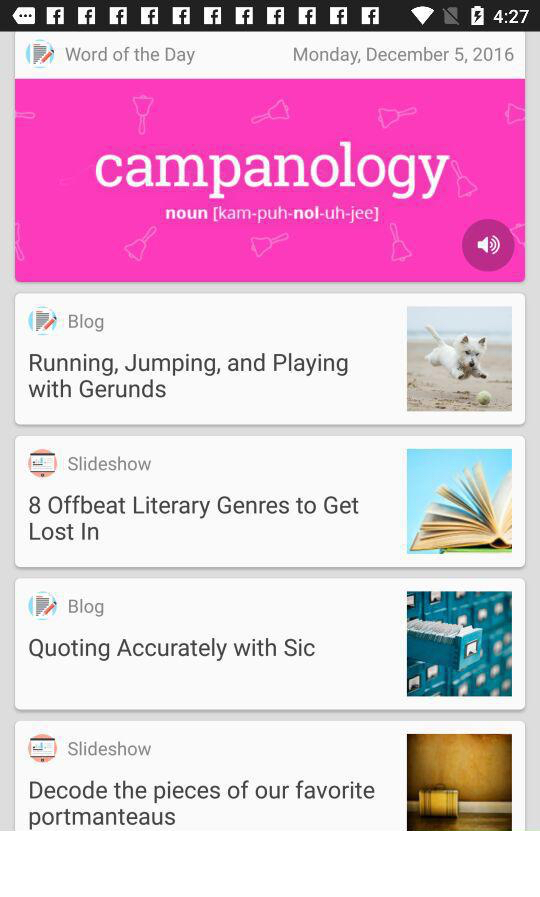Card: (13, 292, 528, 427), (14, 435, 528, 570), (15, 577, 526, 711)
Image: (16, 80, 525, 282), (407, 591, 512, 697), (407, 307, 512, 412), (408, 450, 512, 554), (407, 734, 512, 831), (462, 219, 514, 272), (27, 40, 55, 69), (30, 592, 57, 621), (30, 307, 57, 336), (30, 735, 57, 763), (30, 450, 57, 478)
Text: (30, 780, 376, 831), (29, 494, 359, 541), (29, 353, 349, 399), (30, 637, 316, 663), (294, 47, 514, 66), (66, 46, 196, 66), (68, 455, 152, 472), (68, 740, 152, 756), (69, 598, 105, 618), (69, 314, 105, 333)
UpperTaskBar: (1, 1, 540, 33)
